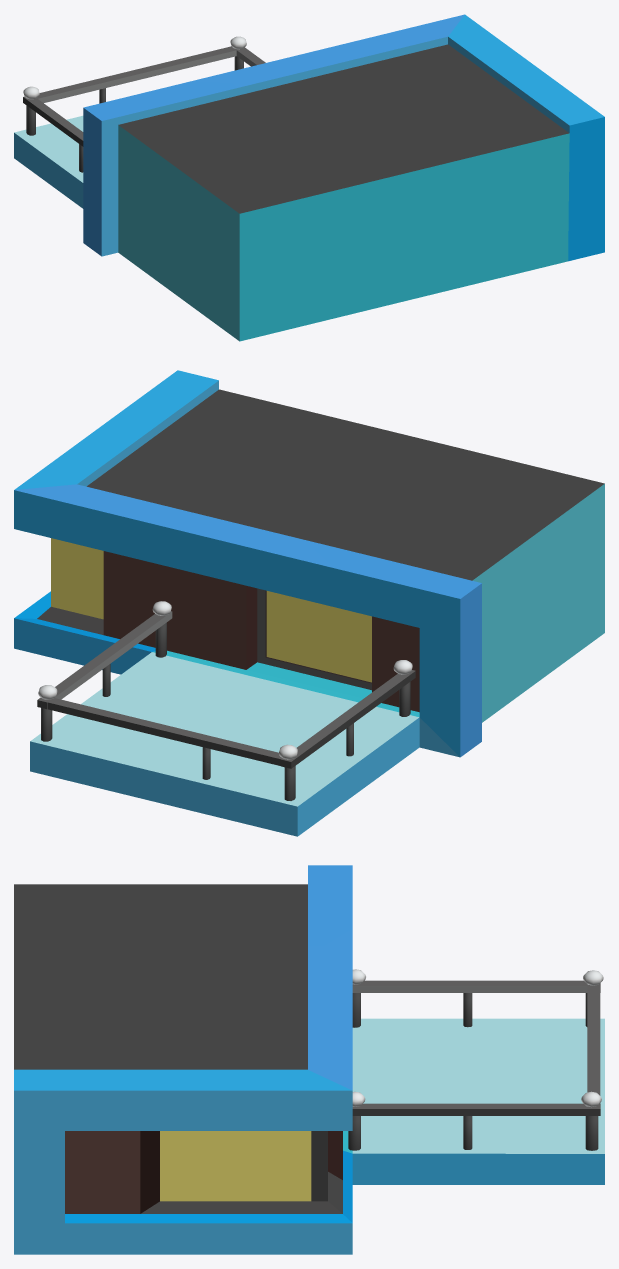
File: House_lv2_v2.FBX
3 views of the same model, one above another, from view 1: azimuth 30°, elevation 25°; view 2: azimuth 150°, elevation 25°; view 3: azimuth 270°, elevation 25° (orthographic). The views are drawn at different scales.
Parts seen in each view (by area): view 1: LV2; view 2: LV2; view 3: LV2.
Part boxes in pixels (x1,y1,x2,y2): LV2: (14, 14, 604, 341); LV2: (14, 370, 604, 836); LV2: (14, 865, 604, 1254).
Size of the model in its own units: 13.8 by 4.68 by 15.3.
